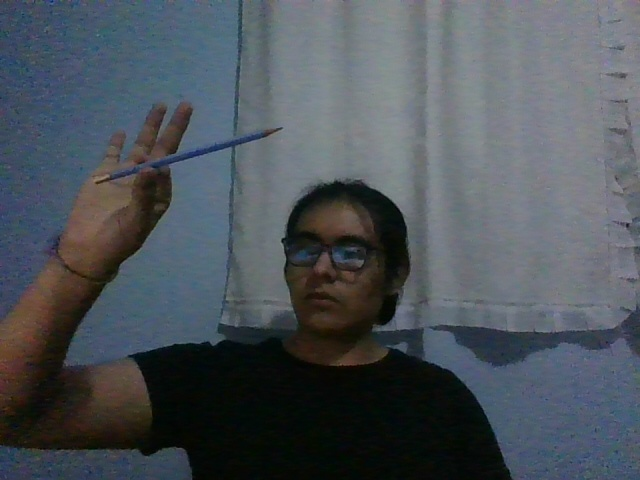lapiz: (91, 125, 284, 185)
